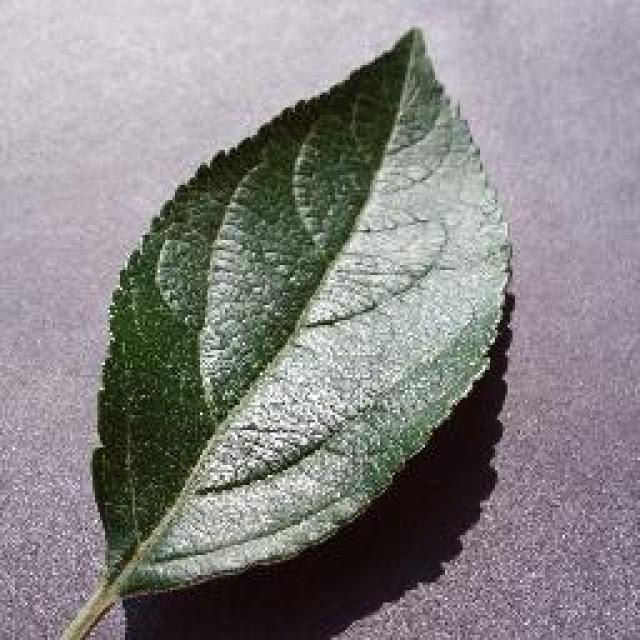apple healthy: (45, 22, 515, 638)
